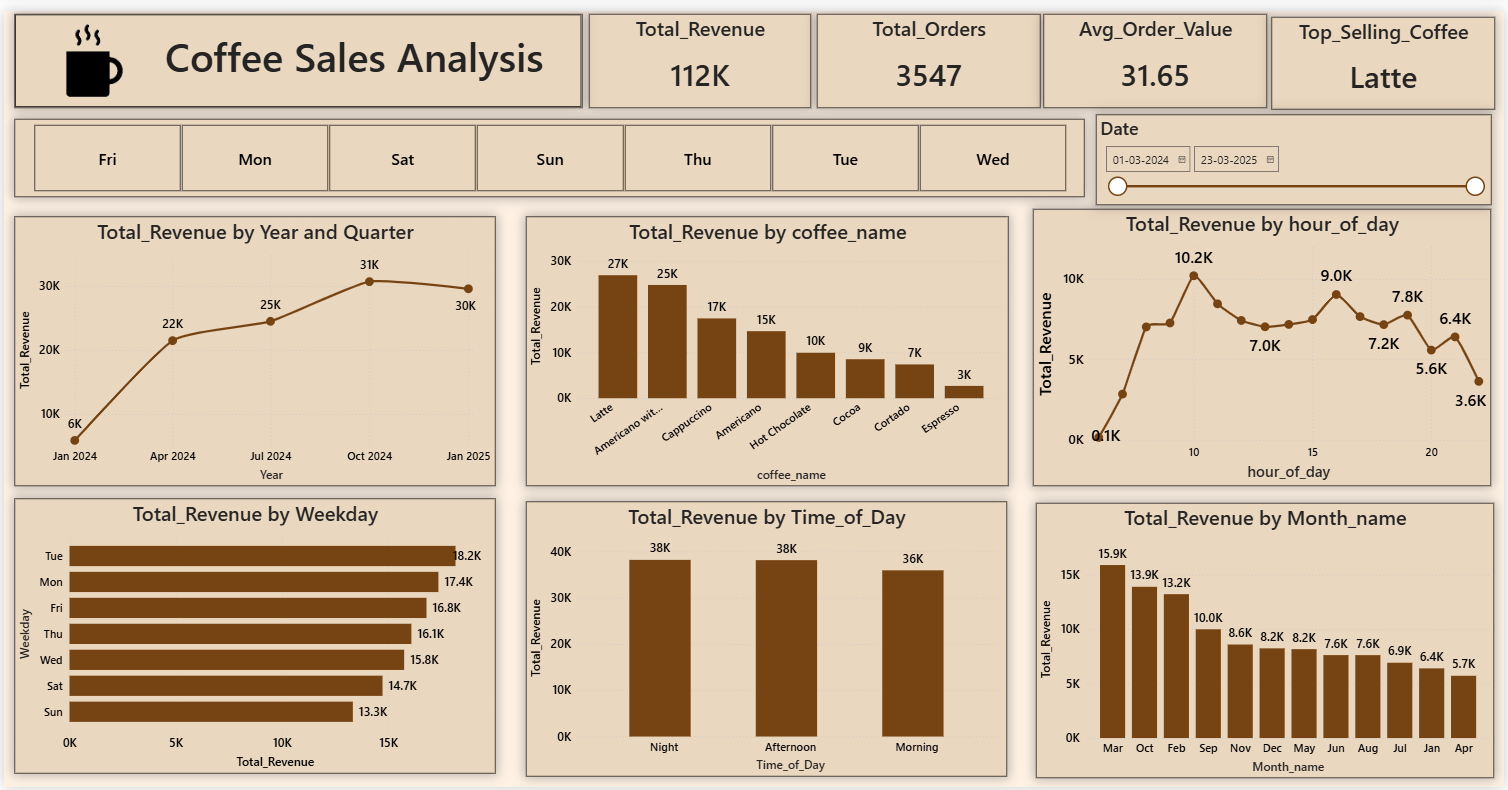

Layout of this report page (visuals, bound fields, positions):
{"tool":"powerbi","page":{"name":"Coffee_Dashboard","canvas":[2000,1035],"ordinal":0},"visuals":[{"type":"card","title":"Total_Revenue","fields":{"Values":["Measure_Table.Total_Revenue"]},"box":[780.8,4.7,295.7,125.4],"z":0},{"type":"card","title":"Total_Orders","fields":{"Values":["Measure_Table.Total_Orders"]},"box":[1083.6,4.7,298.1,125.4],"z":1000},{"type":"card","title":"Avg_Order_Value","fields":{"Values":["Measure_Table.Avg_Order_Value"]},"box":[1386.4,4.7,298.1,125.4],"z":2000},{"type":"card","title":"Top_Selling_Coffee","fields":{"Values":["Measure_Table.Top Selling Coffee"]},"box":[1689.3,7.1,298.1,123],"z":3000},{"type":"shape","box":[14.2,4.7,757.1,125.4],"z":4000},{"type":"textbox","box":[193.6,18.3,546.2,95.8],"z":5000},{"type":"lineChart","fields":{"Category":["Coffe_sales.Date.Variation.Date Hierarchy.Year","Coffe_sales.Date.Variation.Date Hierarchy.Quarter"],"Y":["Measure_Table.Total_Revenue"]},"box":[14.2,274.4,641.2,359.6],"z":6000},{"type":"columnChart","fields":{"Category":["Coffe_sales.coffee_name"],"Y":["Measure_Table.Total_Revenue"]},"box":[695.6,274.4,643.5,359.6],"z":7000},{"type":"columnChart","fields":{"Category":["Coffe_sales.Time_of_Day"],"Y":["Measure_Table.Total_Revenue"]},"box":[695.6,653,641.2,366.7],"z":8000},{"type":"barChart","fields":{"Category":["Coffe_sales.Weekday"],"Y":["Measure_Table.Total_Revenue"]},"box":[14.2,650.6,641.2,366.7],"z":9000},{"type":"lineChart","fields":{"Category":["Coffe_sales.hour_of_day"],"Y":["Measure_Table.Total_Revenue"]},"box":[1372.2,265,610.4,369.1],"z":10000},{"type":"columnChart","fields":{"Category":["Coffe_sales.Month_name"],"Y":["Measure_Table.Total_Revenue"]},"box":[1377,655.4,610.4,366.7],"z":11000},{"type":"slicer","title":"Date","fields":{"Values":["Coffe_sales.Date"]},"box":[1455.1,137.2,527.6,120.7],"z":12000},{"type":"slicer","fields":{"Values":["Coffe_sales.Weekday"]},"box":[14.2,144.3,1426.7,104.1],"z":13000},{"type":"image","box":[48.5,8.4,145.5,116],"z":14000}]}

Visuals, with their boxes in screenshot pixels (x1, y1, x2, y2), scaled from the page's 2000x1035 canvas onto the 1508x790 screenshot:
"Total_Revenue" card: bbox=[589, 4, 812, 99]
"Total_Orders" card: bbox=[817, 4, 1042, 99]
"Avg_Order_Value" card: bbox=[1045, 4, 1270, 99]
"Top_Selling_Coffee" card: bbox=[1274, 5, 1498, 99]
shape: bbox=[11, 4, 582, 99]
textbox: bbox=[146, 14, 558, 87]
lineChart - Coffe_sales.Date.Variation.Date Hierarchy.Year x Coffe_sales.Date.Variation.Date Hierarchy.Quarter: bbox=[11, 209, 494, 484]
columnChart - Coffe_sales.coffee_name x Measure_Table.Total_Revenue: bbox=[524, 209, 1010, 484]
columnChart - Coffe_sales.Time_of_Day x Measure_Table.Total_Revenue: bbox=[524, 498, 1008, 778]
barChart - Coffe_sales.Weekday x Measure_Table.Total_Revenue: bbox=[11, 497, 494, 776]
lineChart - Coffe_sales.hour_of_day x Measure_Table.Total_Revenue: bbox=[1035, 202, 1495, 484]
columnChart - Coffe_sales.Month_name x Measure_Table.Total_Revenue: bbox=[1038, 500, 1498, 780]
"Date" slicer: bbox=[1097, 105, 1495, 197]
slicer - Coffe_sales.Weekday: bbox=[11, 110, 1086, 190]
image: bbox=[37, 6, 146, 95]
